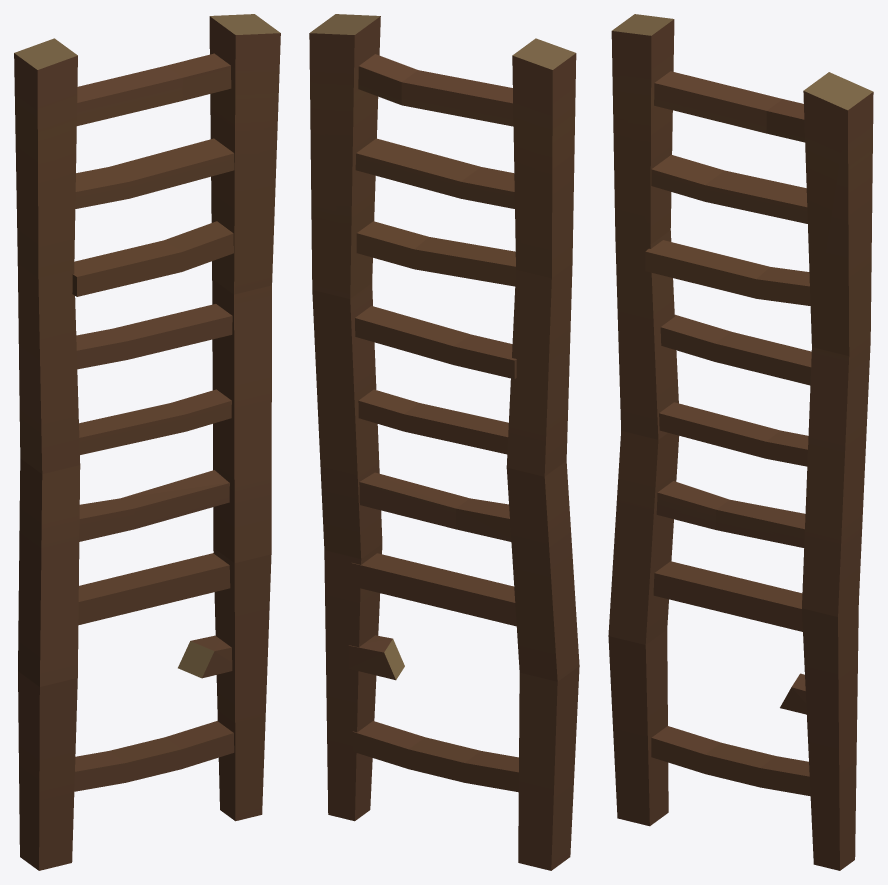
3 views of the same model, side by side, from view 1: azimuth 30°, elevation 25°; view 2: azimuth 150°, elevation 25°; view 3: azimuth 330°, elevation 25° (orthographic).
Parts seen in each view (by area): view 1: mff_tower_ladder; view 2: mff_tower_ladder; view 3: mff_tower_ladder.
Part boxes in pixels (x1,y1,x2,y2): mff_tower_ladder: (14,14,280,870); mff_tower_ladder: (309,14,579,870); mff_tower_ladder: (608,14,873,870).
Size of the model in its own units: 1.72 by 5.49 by 0.3509.
Materials: 1 (1 with a texture image).
